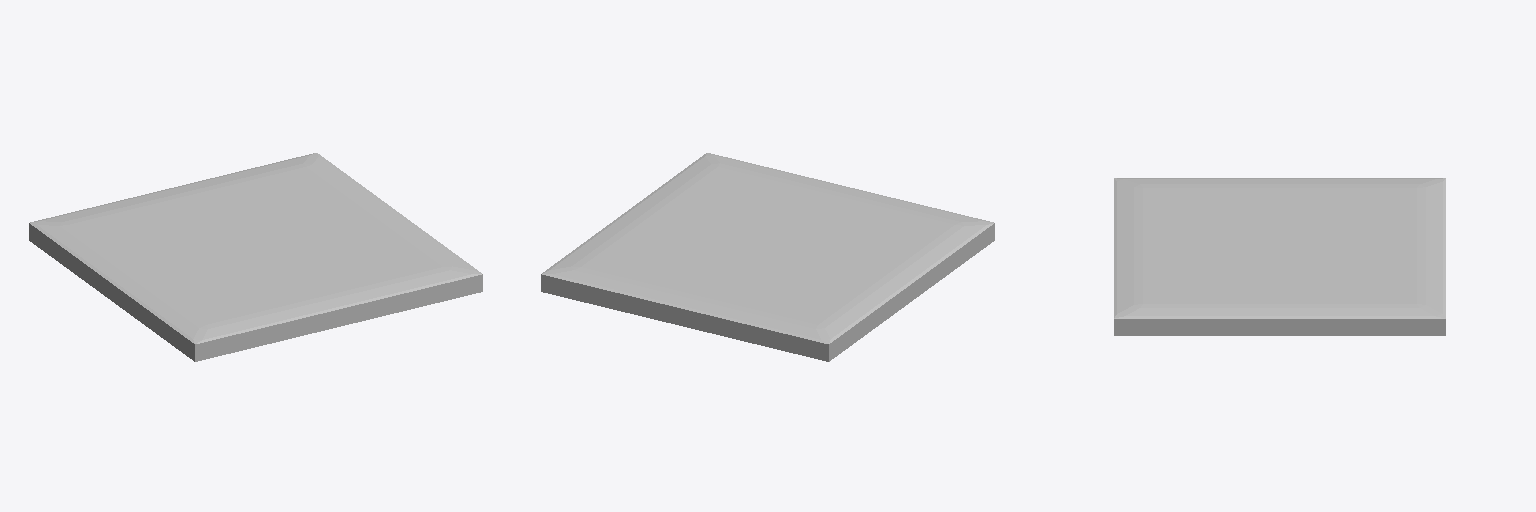
File: floortile.obj
3 views of the same model, side by side, from view 1: azimuth 30°, elevation 25°; view 2: azimuth 150°, elevation 25°; view 3: azimuth 270°, elevation 25° (orthographic).
Visible parts, largest first — view 1: Cube; view 2: Cube; view 3: Cube.
Part boxes in pixels (left/top/right/bottom): Cube: left=29, top=153, right=482, bottom=361; Cube: left=541, top=153, right=994, bottom=361; Cube: left=1114, top=178, right=1445, bottom=335.
Size of the model in its own units: 2 by 0.1341 by 2.